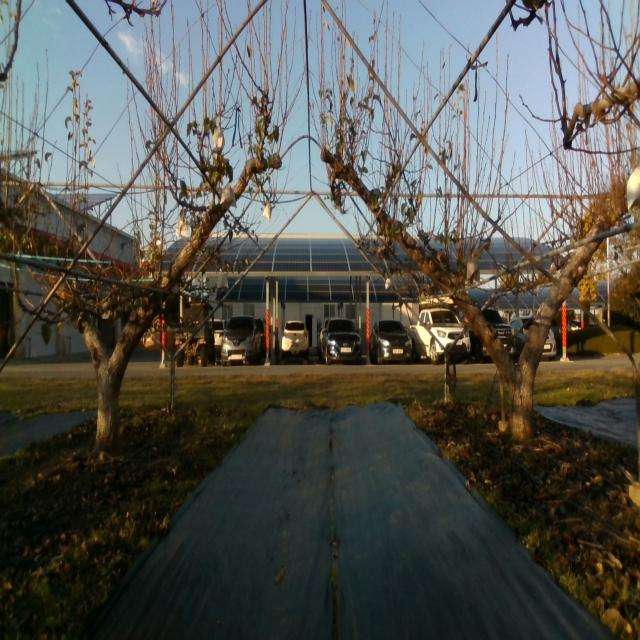pearbags: (625, 166, 640, 210), (466, 260, 481, 285), (221, 185, 237, 208), (213, 126, 225, 153), (177, 214, 190, 238)
